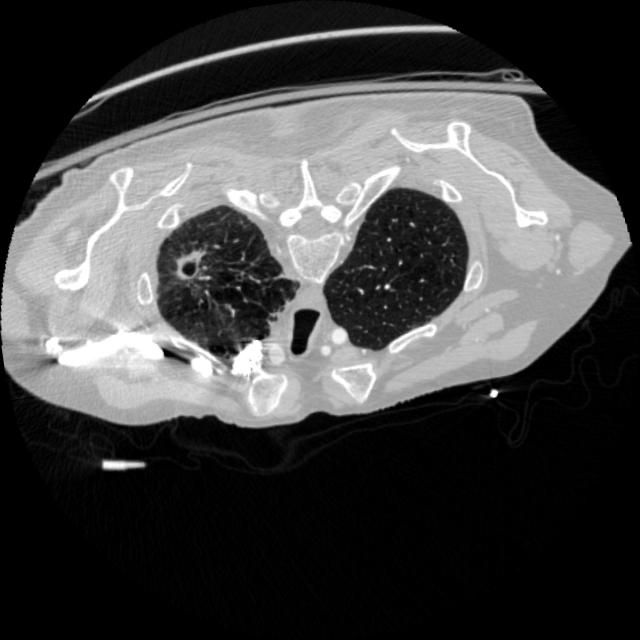nodule: (156, 238, 223, 306)
